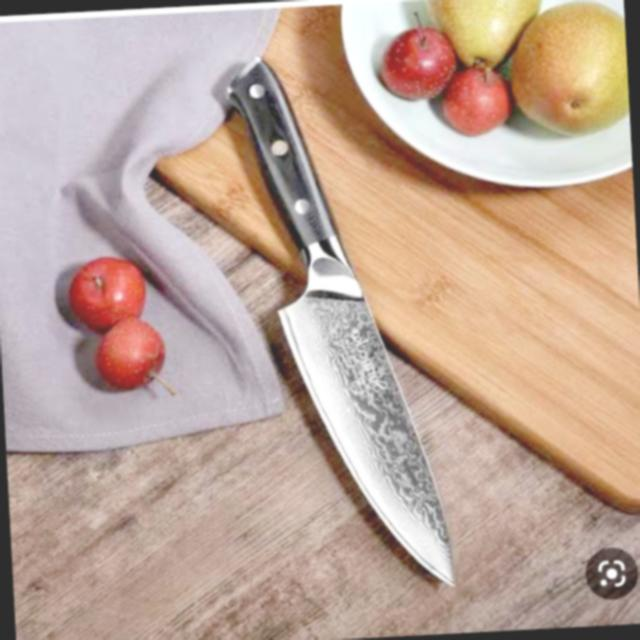knife: (190, 45, 478, 595)
